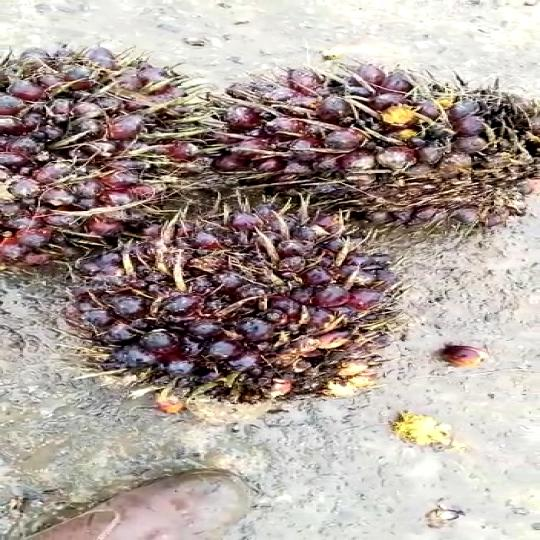kurang masak: (85, 202, 415, 424), (211, 60, 540, 223), (0, 44, 215, 271)
